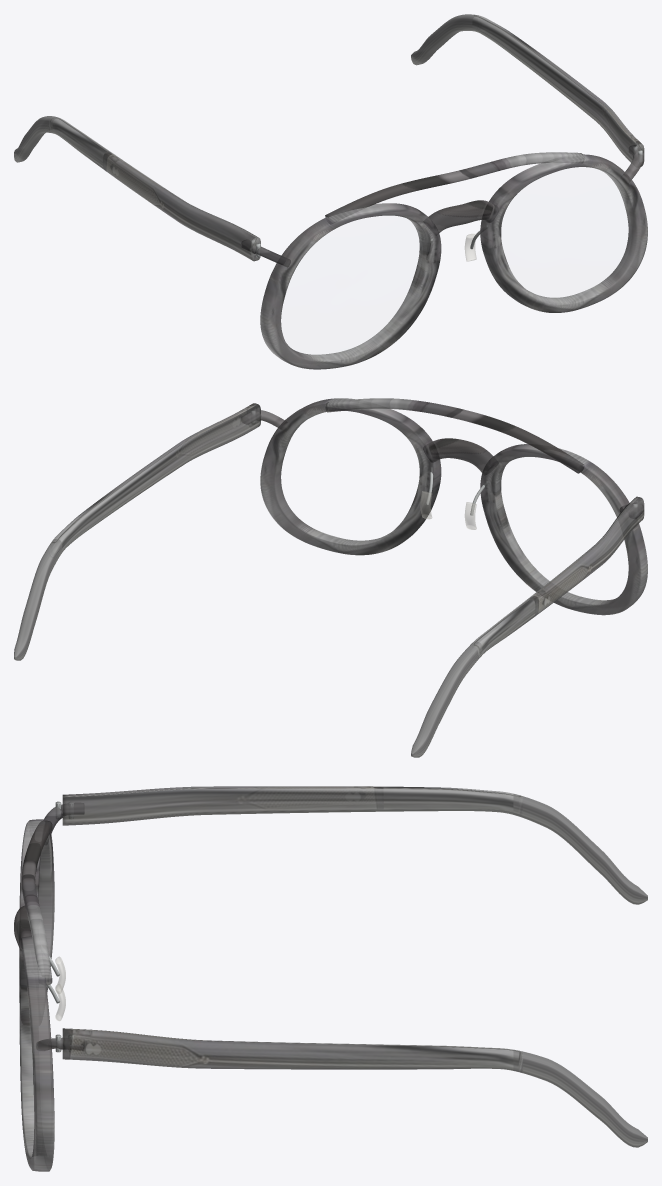
Rendered from prod-r7.glb.
The picture shows the model from 3 angles, top to bottom: view 1: azimuth 30°, elevation 25°; view 2: azimuth 150°, elevation 25°; view 3: azimuth 270°, elevation 25°; orthographic projection. The views are drawn at different scales.
Visible parts, largest first — view 1: Traced bevelled frame -1, Traced bevelled frame 1, Fitted temple exterior -1, Fitted temple exterior 1, Upper double bridge, Saddle nose bridge; view 2: Traced bevelled frame 1, Traced bevelled frame -1, Fitted temple exterior 1, Fitted temple exterior -1, Upper double bridge, Saddle nose bridge; view 3: Fitted temple exterior -1, Fitted temple exterior 1, Traced bevelled frame 1, Upper double bridge, Traced bevelled frame -1, Saddle nose bridge.
Part boxes in pixels (x1=…): Traced bevelled frame -1: x1=260, y1=203, x2=441, y2=369; Traced bevelled frame 1: x1=480, y1=154, x2=647, y2=312; Fitted temple exterior -1: x1=14, y1=116, x2=260, y2=261; Fitted temple exterior 1: x1=411, y1=14, x2=644, y2=166; Upper double bridge: x1=325, y1=152, x2=584, y2=224; Saddle nose bridge: x1=423, y1=200, x2=498, y2=235; Traced bevelled frame 1: x1=260, y1=398, x2=441, y2=555; Traced bevelled frame -1: x1=480, y1=444, x2=647, y2=615; Fitted temple exterior 1: x1=14, y1=403, x2=260, y2=660; Fitted temple exterior -1: x1=411, y1=496, x2=644, y2=757; Upper double bridge: x1=325, y1=398, x2=584, y2=473; Saddle nose bridge: x1=423, y1=438, x2=498, y2=475; Fitted temple exterior -1: x1=62, y1=786, x2=647, y2=904; Fitted temple exterior 1: x1=62, y1=1028, x2=647, y2=1147; Traced bevelled frame 1: x1=19, y1=936, x2=54, y2=1171; Upper double bridge: x1=21, y1=820, x2=52, y2=985; Traced bevelled frame -1: x1=19, y1=819, x2=54, y2=991; Saddle nose bridge: x1=14, y1=905, x2=33, y2=962.
Bounding box in the file's own units: 0.1461 × 0.0539 × 0.1484.
Materials: 7 (3 with a texture image).
